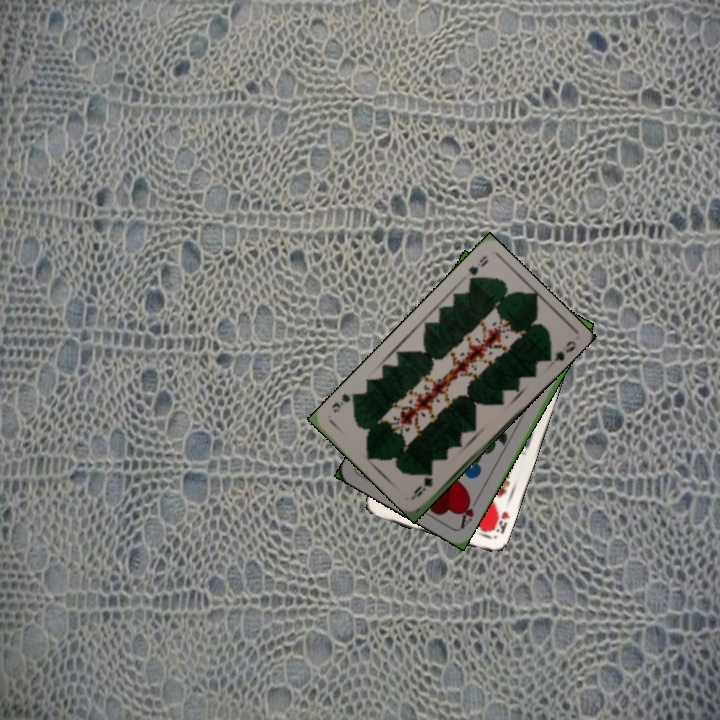G9: (463, 251, 491, 287), (410, 474, 435, 499)
HA: (456, 493, 482, 531)
HK: (486, 502, 512, 536)
